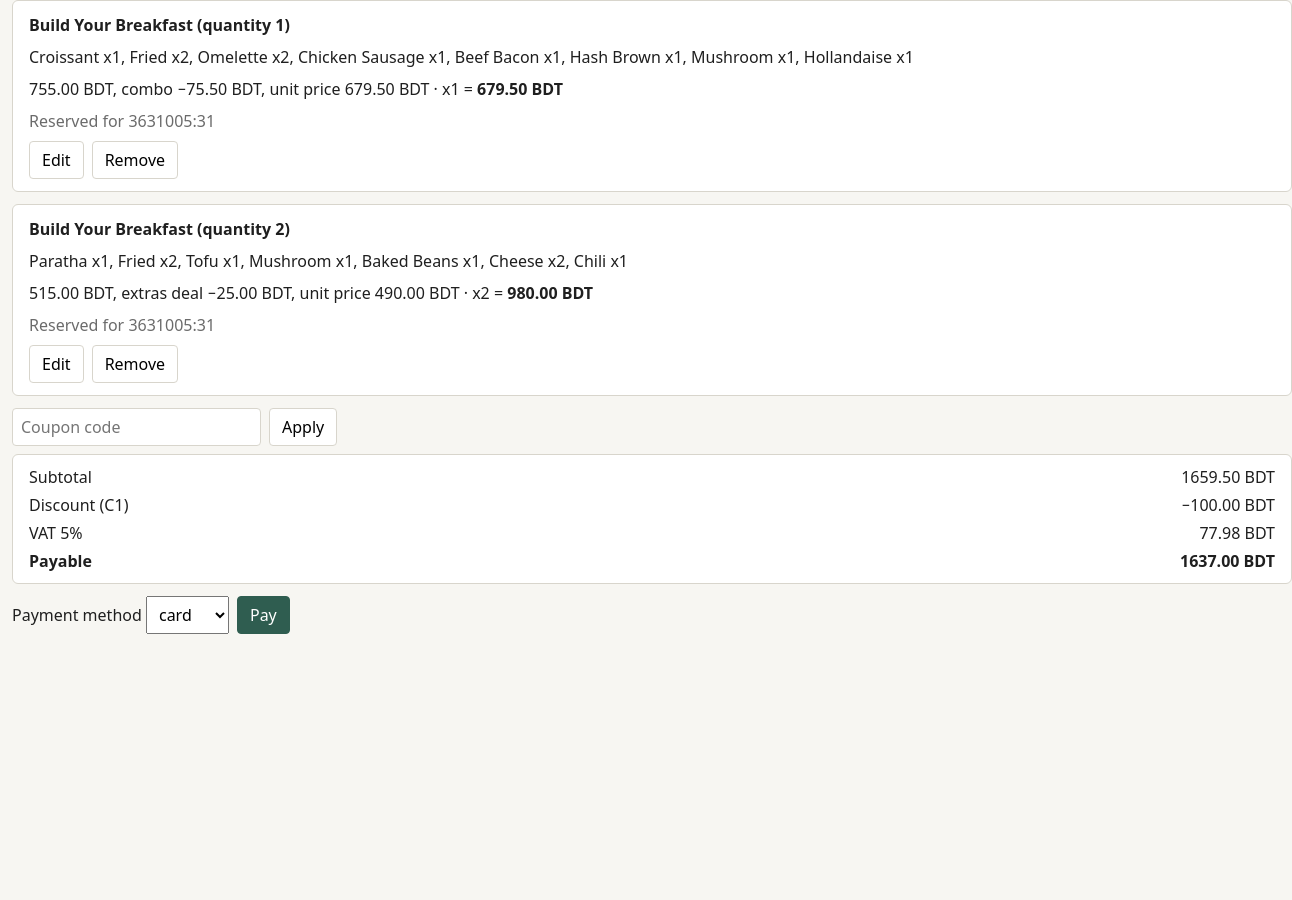
Scenario: clearing the coupon field removes the coupon
Type "MORNING15" into the field labelled "Coupon code".
click(136, 427); type("MORNING15")  # box left=12, top=408, right=261, bottom=446
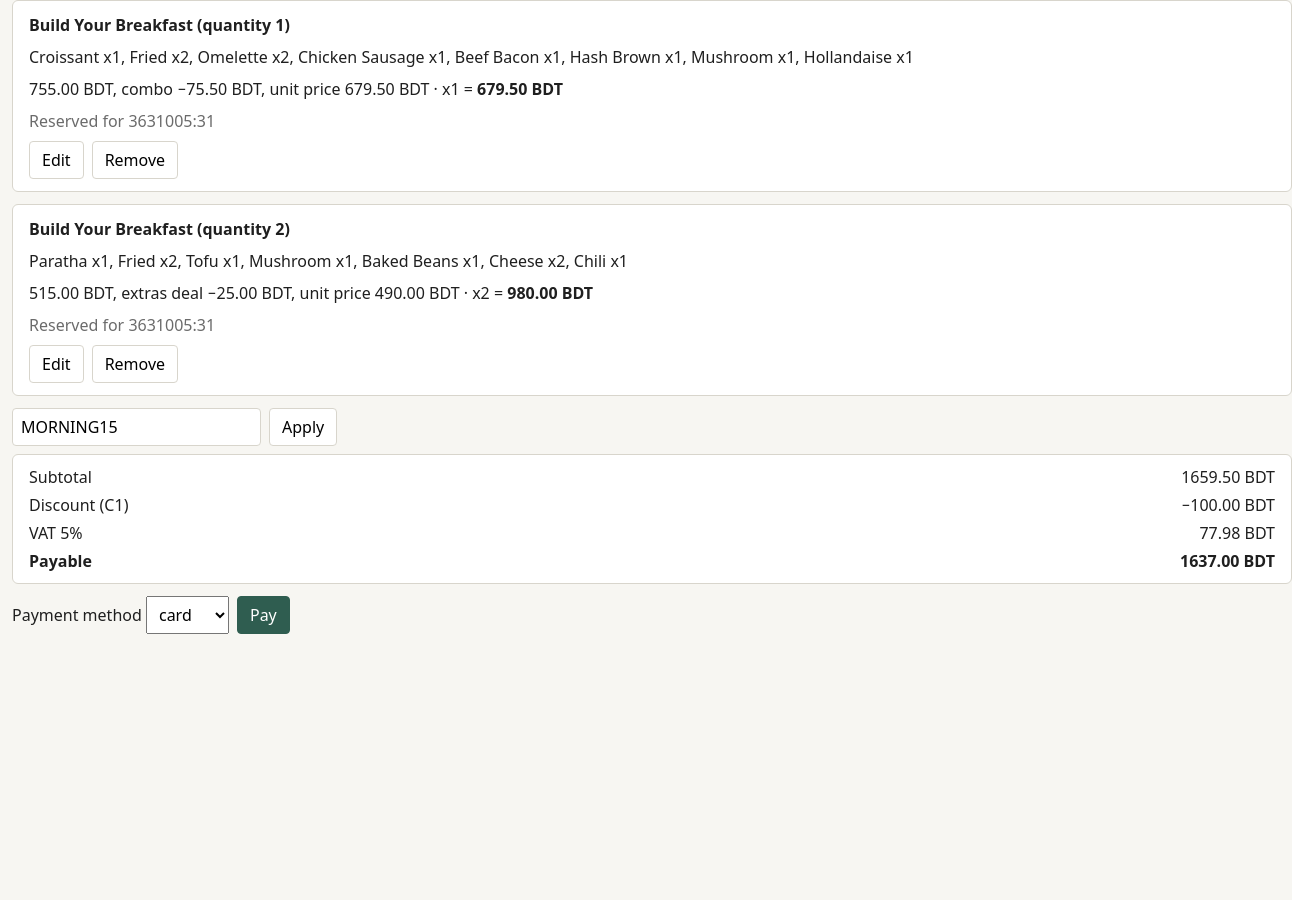
Click the button "Apply".
click(303, 427)  # box left=269, top=408, right=337, bottom=446
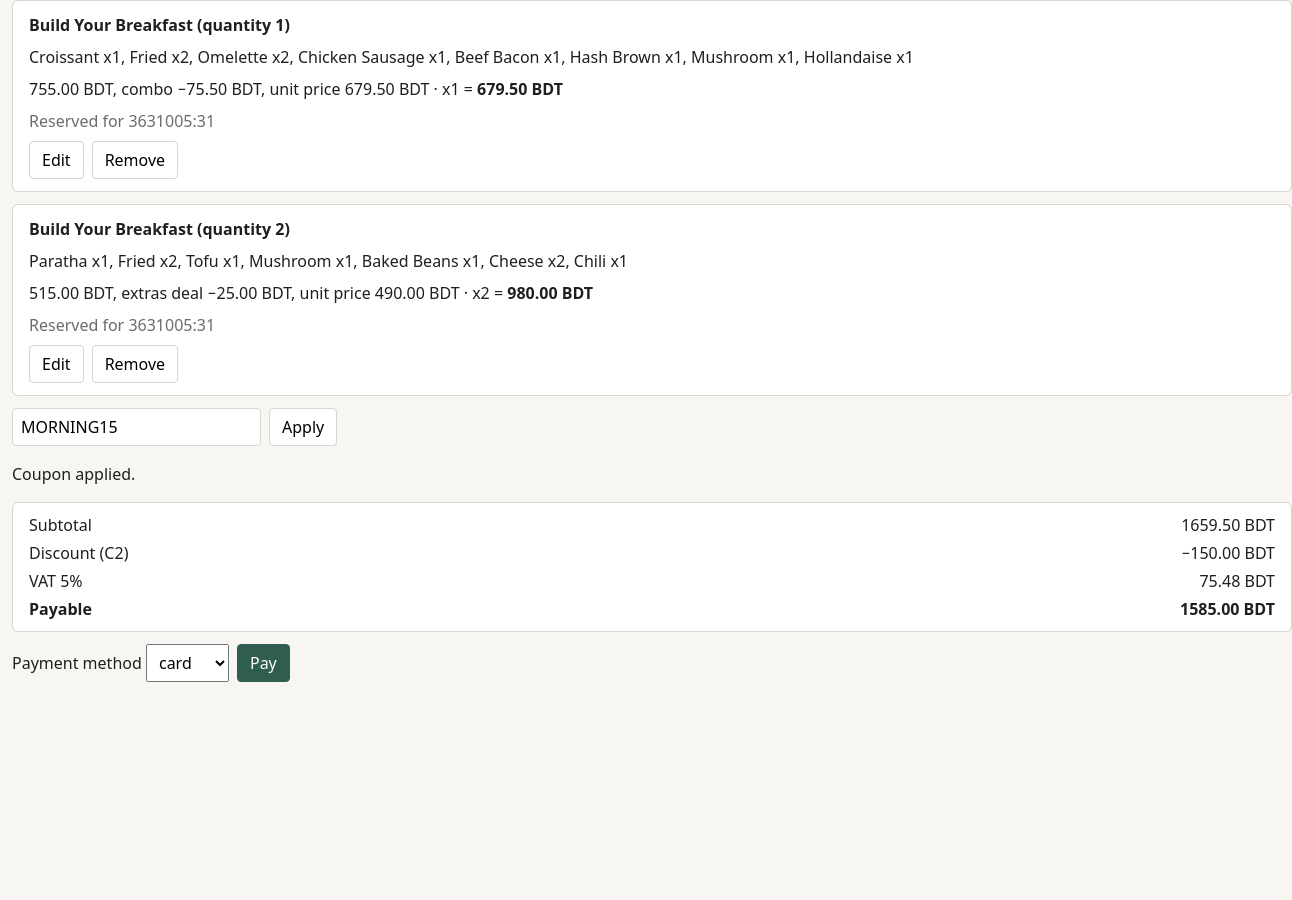
Expected: the message "Coupon applied." is shown, left=12, top=463, right=135, bottom=485
Expected: the text "−150.00 BDT" is shown, left=1180, top=541, right=1275, bottom=565
Clear the field named "Coupon code" at (136, 427), box left=12, top=408, right=261, bottom=446
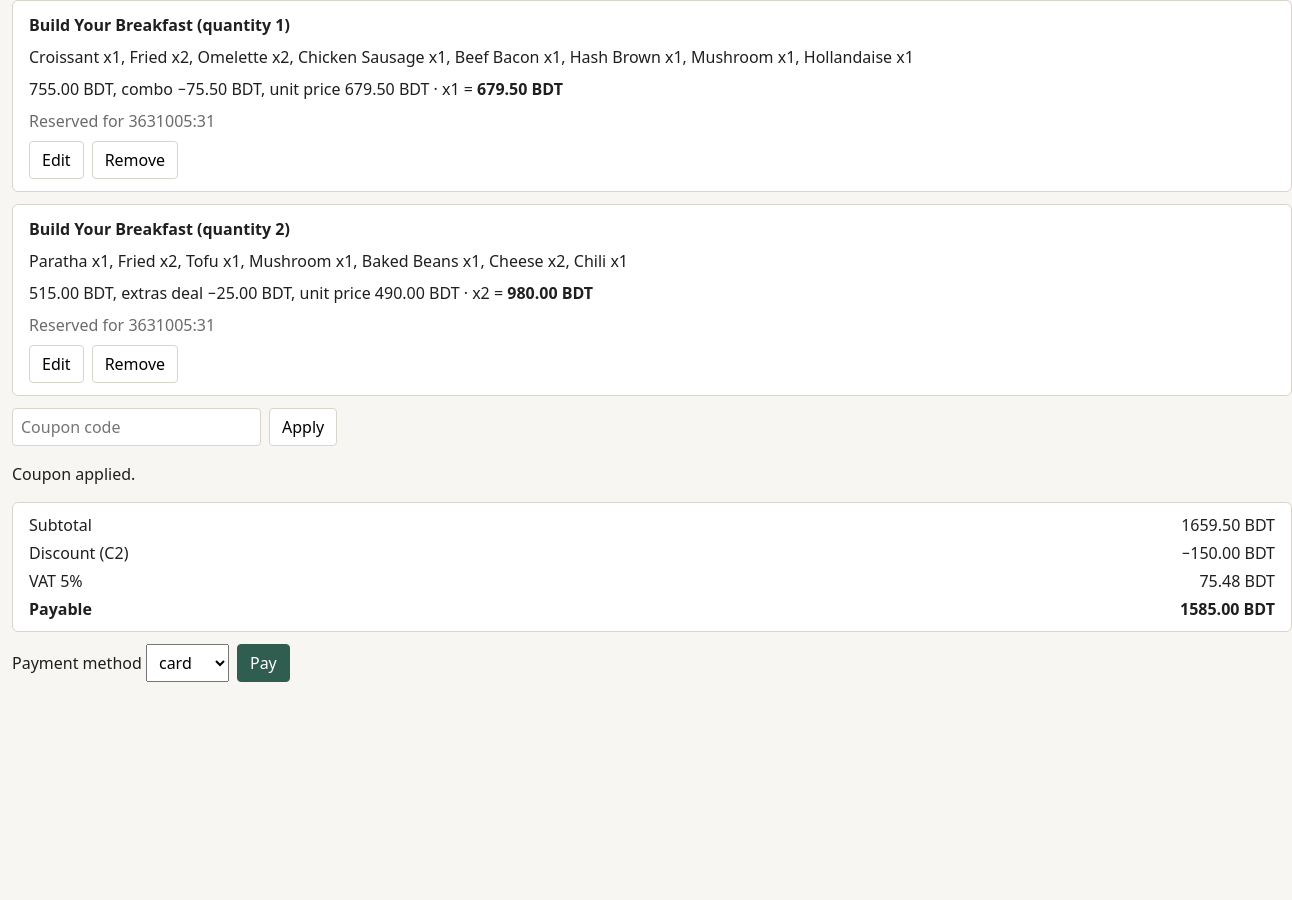
Click the button "Apply".
click(303, 427)  # box left=269, top=408, right=337, bottom=446
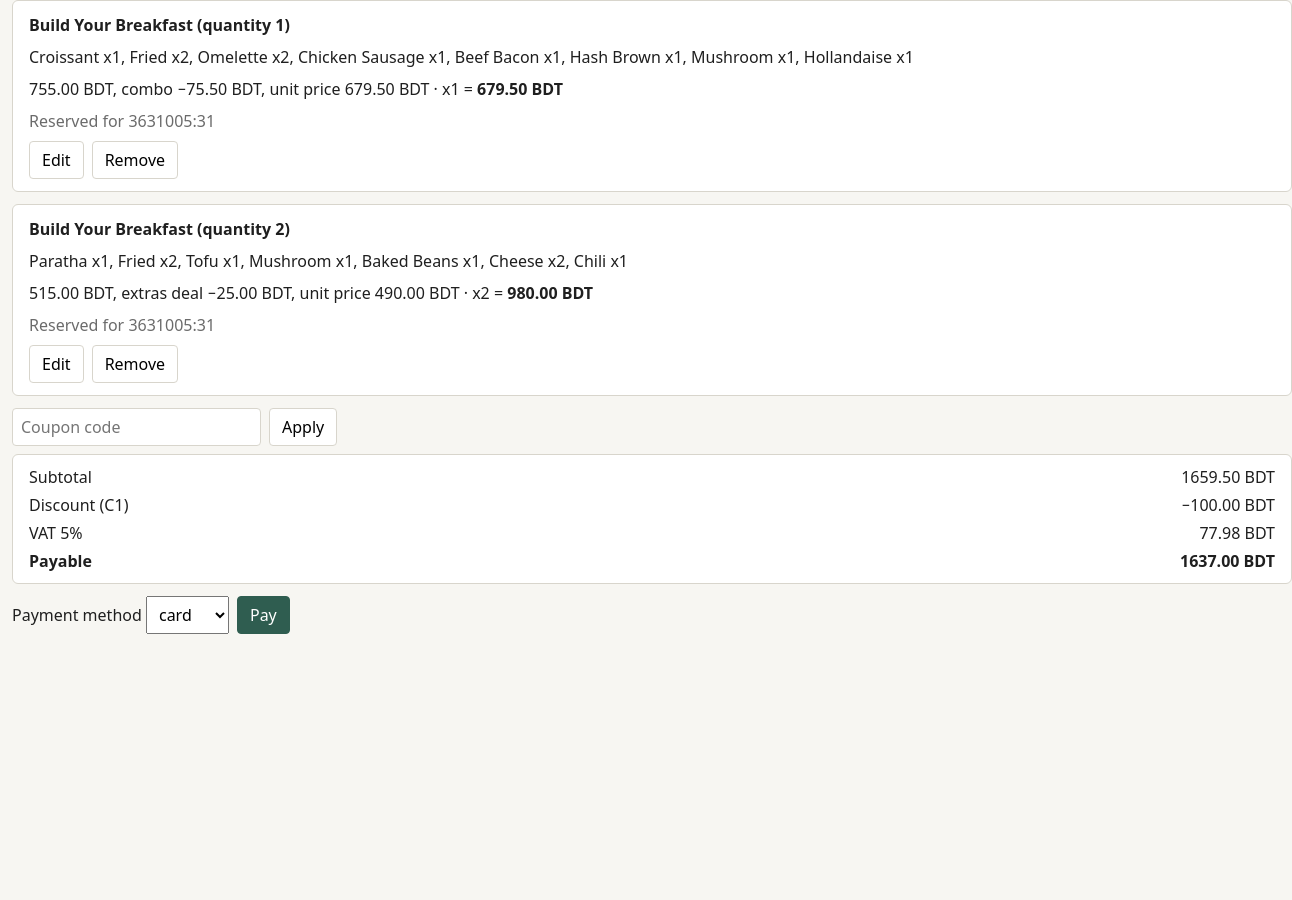
Expected: the message "Coupon applied." is gone
Expected: the text "−150.00 BDT" is gone
